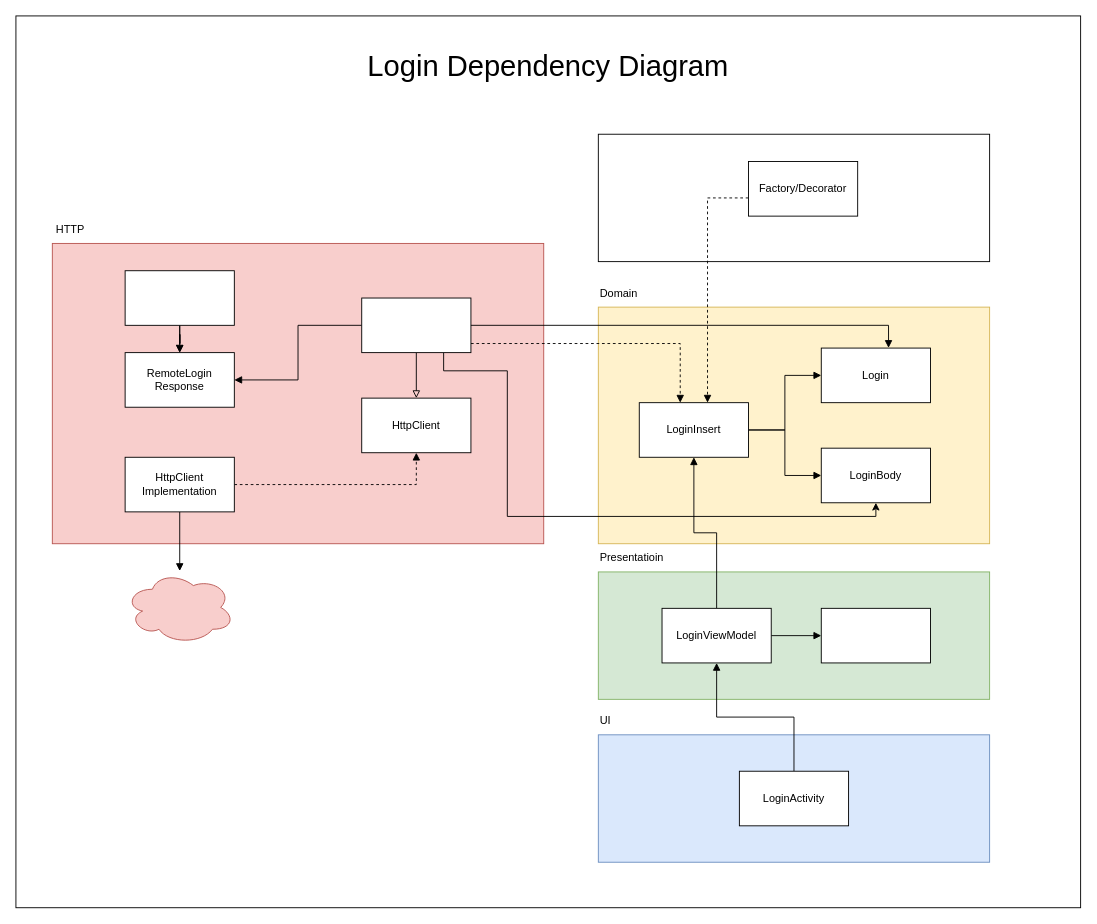
The diagram is 1097 pixels wide and 924 high, and some of its shapes have lost their labels. The shapes that lost their labels are listed below. From the top down, each one's centre as x and y in pixels, then its label:
point 179,297: RemoteLogin Mapper
point 416,325: RemoteLogin Loader
point 179,607: Backend
point 875,635: ViewModel
